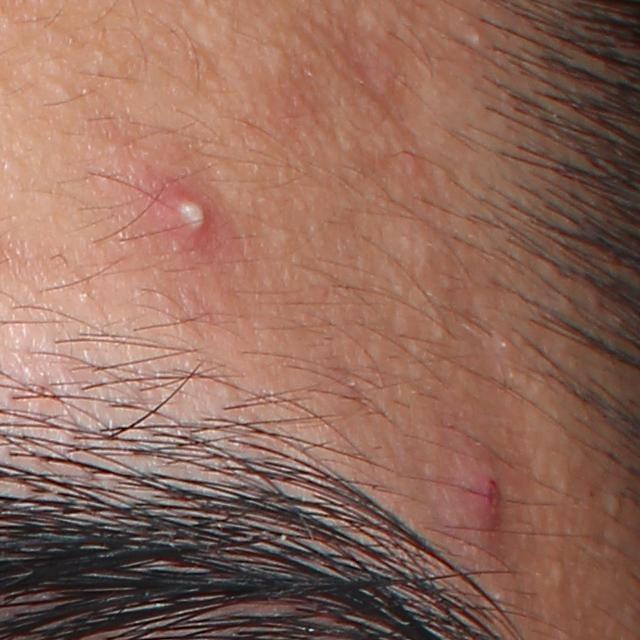comedo: (462, 19, 488, 49), (603, 487, 625, 517), (554, 558, 567, 591), (273, 229, 294, 245)
papule: (467, 459, 509, 541)
pustule: (153, 183, 213, 249)
